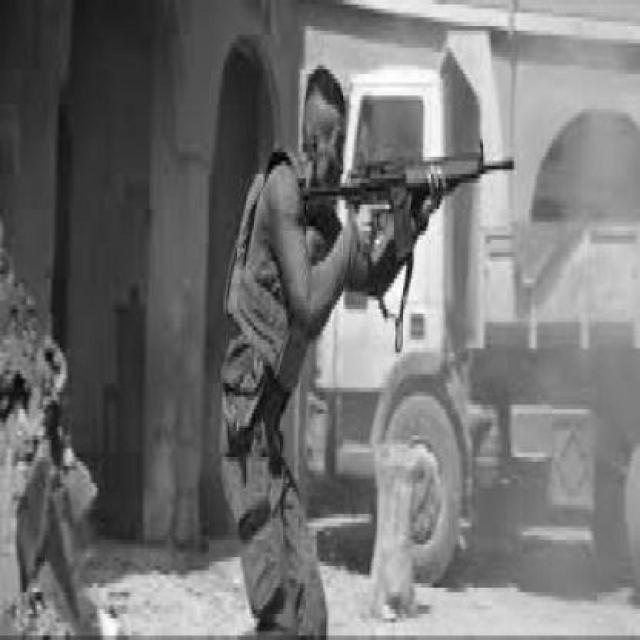weapon: (300, 143, 514, 263)
